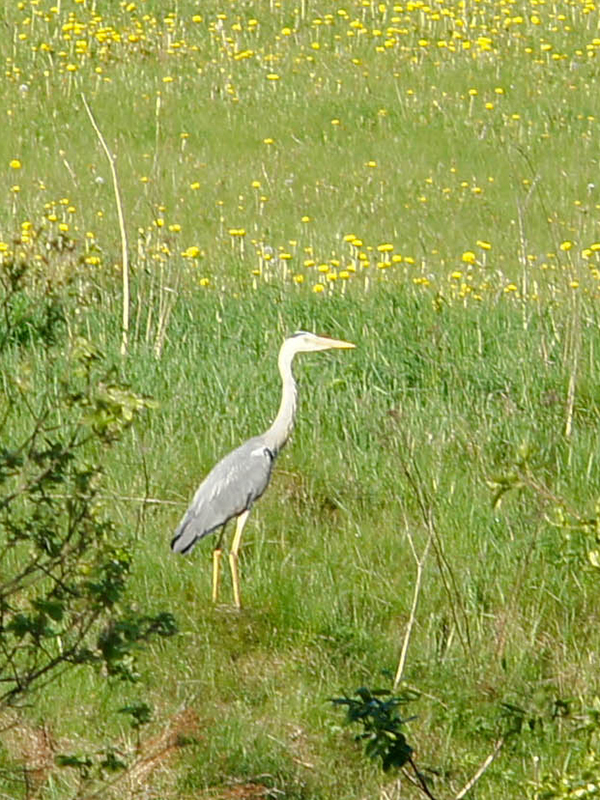heron: (167, 326, 358, 608)
